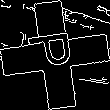P_E: (27, 33, 83, 77)
